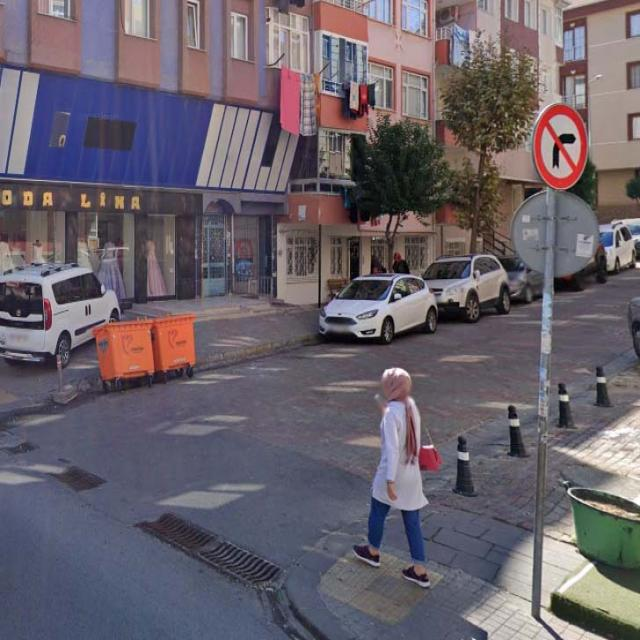sagadonulmez: (534, 104, 587, 190)
